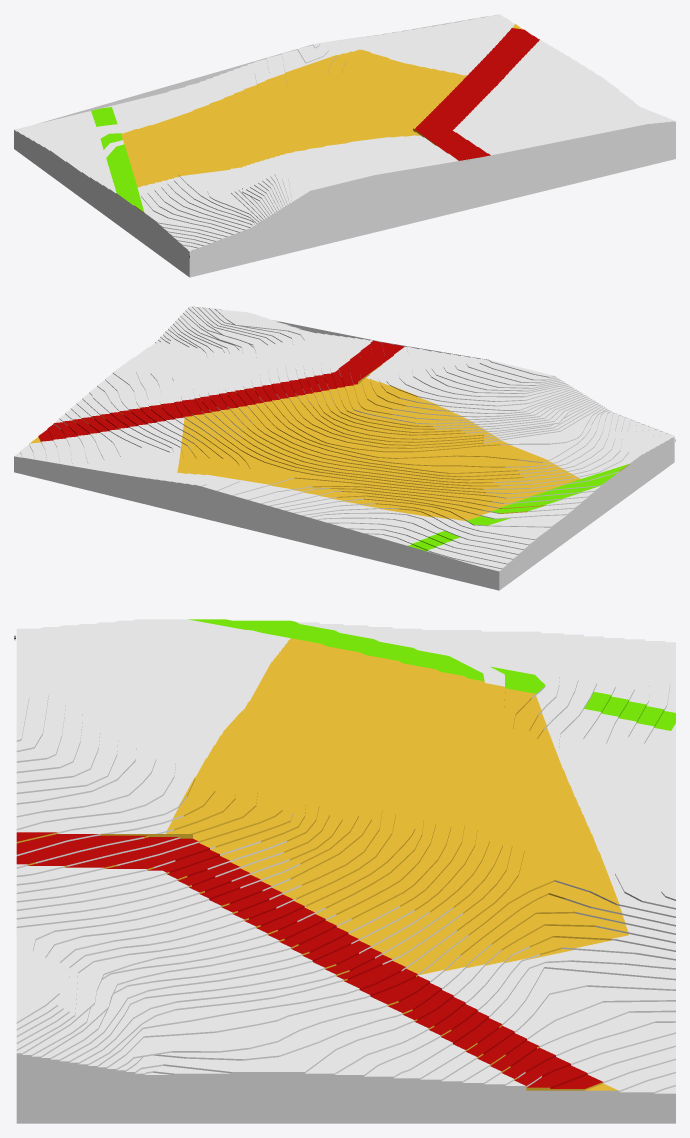
File: MODELO VILLA ALEMANA.obj
3 views of the same model, one above another, from view 1: azimuth 30°, elevation 25°; view 2: azimuth 150°, elevation 25°; view 3: azimuth 270°, elevation 25° (orthographic). The views are drawn at different scales.
Visible parts, largest first — view 1: Mesh2 Group1 new_block_dwg1 Model; view 2: Mesh2 Group1 new_block_dwg1 Model; view 3: Mesh2 Group1 new_block_dwg1 Model.
Part boxes in pixels (x1=…): Mesh2 Group1 new_block_dwg1 Model: x1=14, y1=14, x2=675, y2=277; Mesh2 Group1 new_block_dwg1 Model: x1=14, y1=306, x2=674, y2=590; Mesh2 Group1 new_block_dwg1 Model: x1=16, y1=619, x2=675, y2=1123.
Size of the model in its own units: 308 by 34.67 by 193.
